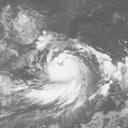cyclone: (48, 53, 91, 91)
